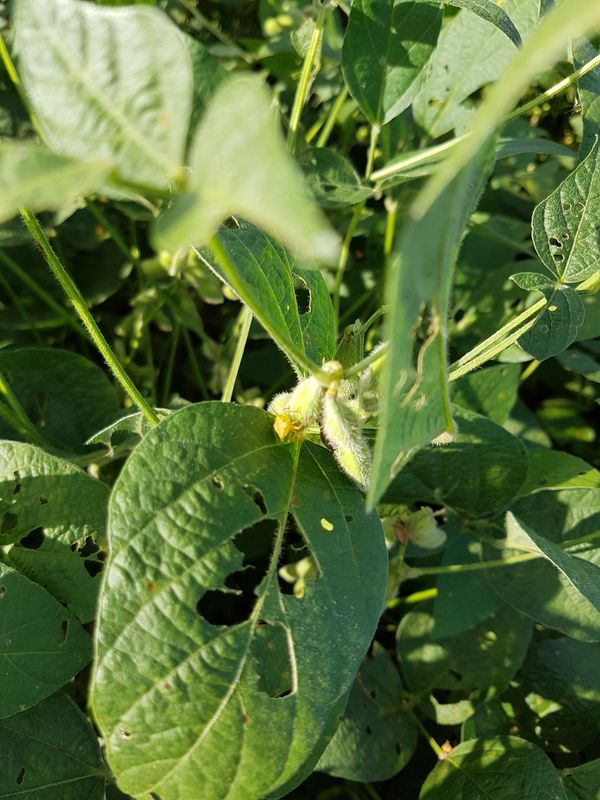Euschistus_heros_adulto: (386, 516, 419, 551)
Euschistus_heros_ninfa: (266, 404, 311, 449)
